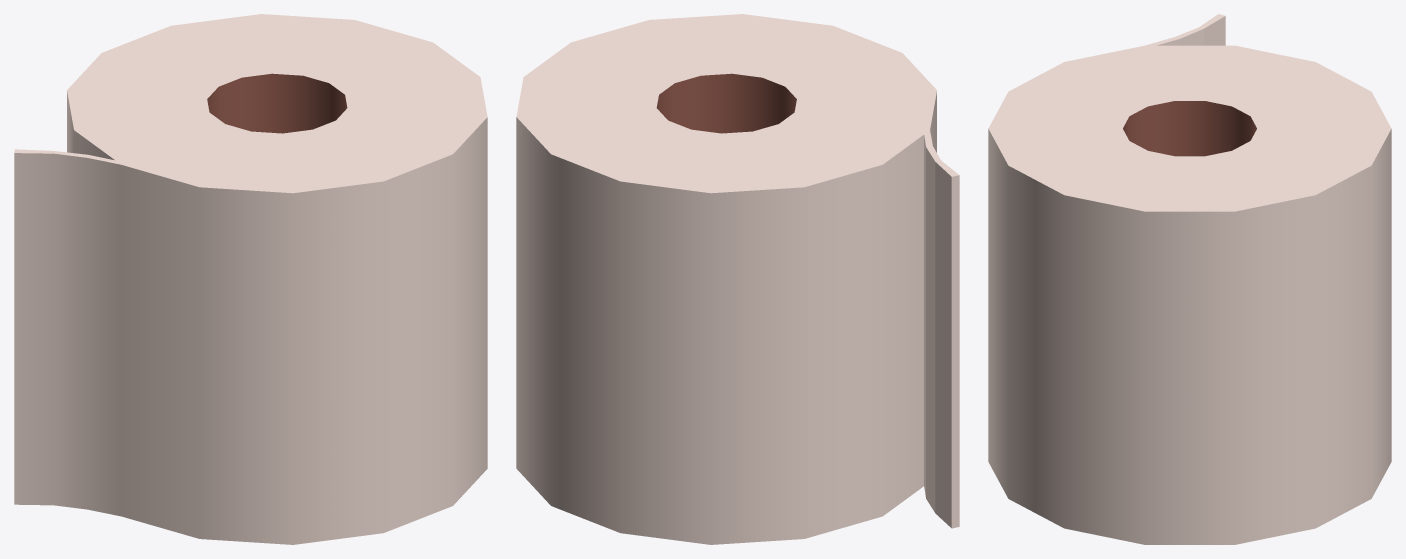
The model's file is ToiletRoll_geo.fbx.
3 views of the same model, side by side, from view 1: azimuth 30°, elevation 25°; view 2: azimuth 150°, elevation 25°; view 3: azimuth 270°, elevation 25° (orthographic). The views are drawn at different scales.
Visible parts, largest first — view 1: ToiletRoll_geo; view 2: ToiletRoll_geo; view 3: ToiletRoll_geo.
Part boxes in pixels (bbox=[...]): ToiletRoll_geo: bbox=[14, 14, 487, 544]; ToiletRoll_geo: bbox=[516, 14, 959, 544]; ToiletRoll_geo: bbox=[988, 14, 1391, 544].
Bounding box in the file's own units: 0.5096 × 0.4393 × 0.4007.
